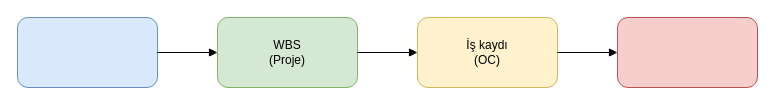
Some shapes in this 775 by 105 pixel diagram are drawn without their labels. The centre of each missing label's shape, as x and y in pixels:
Teslimat / kanıt (DI): the point at 687,52
Şartname / kural (DI): the point at 87,52
